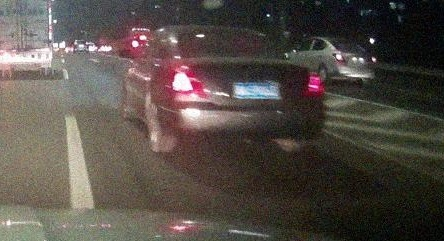L_light: (170, 65, 209, 98), (333, 54, 345, 64)
R_light: (302, 72, 324, 96), (370, 55, 377, 65), (338, 39, 347, 42)
T_light: (217, 30, 233, 33)
night-left: (163, 26, 325, 156)
night-no: (326, 35, 378, 86)
